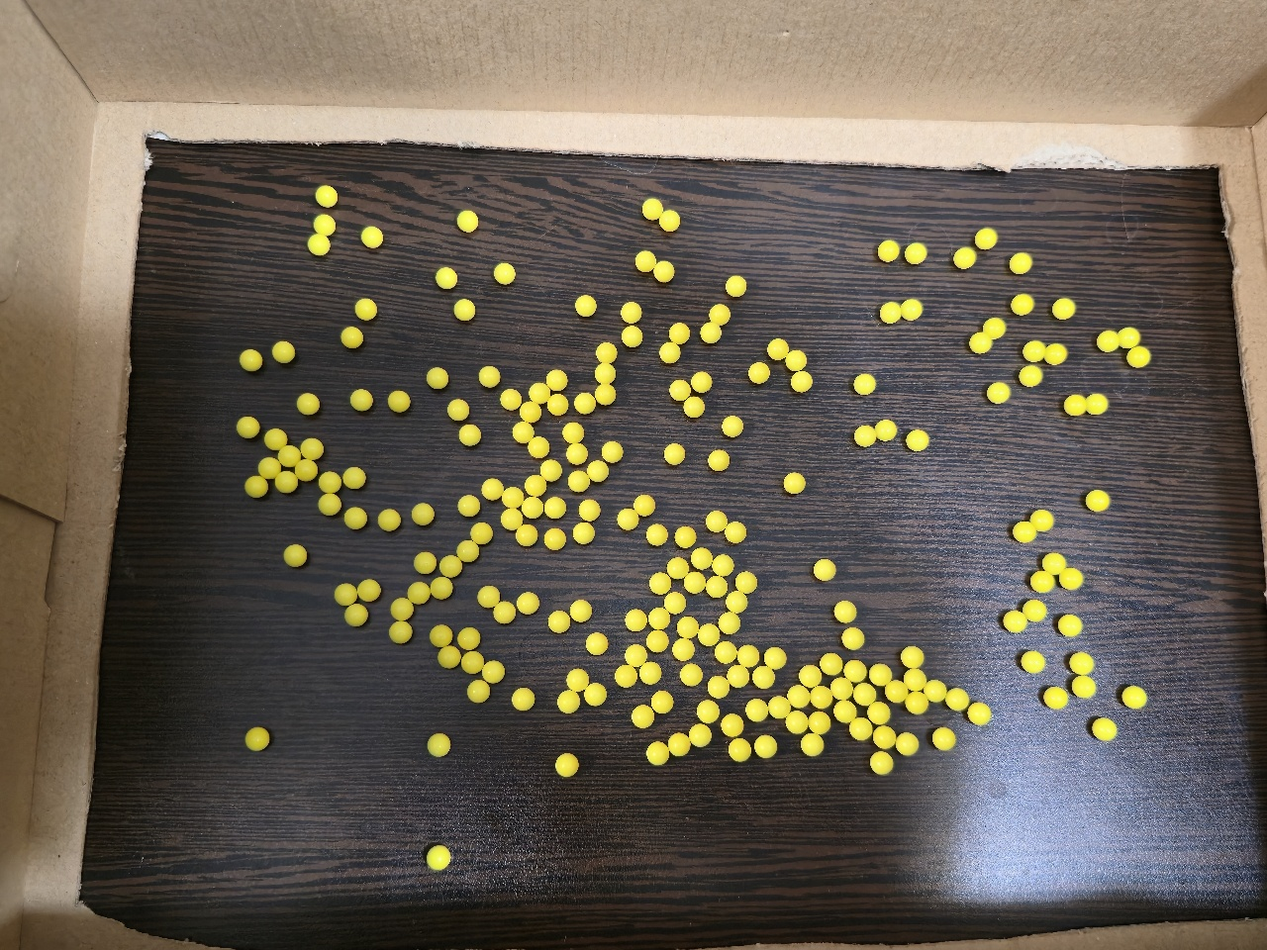yellow_bead: (975, 323, 1001, 348), (1103, 333, 1135, 346), (885, 306, 909, 318), (1098, 723, 1112, 736), (1047, 558, 1062, 570), (806, 738, 819, 751), (1064, 619, 1077, 632), (433, 851, 445, 865), (950, 694, 964, 706), (1127, 692, 1141, 704), (1077, 681, 1091, 693), (1075, 658, 1089, 670), (1026, 656, 1040, 668), (1036, 576, 1050, 588), (901, 738, 914, 750), (854, 723, 867, 735), (1050, 692, 1062, 705), (793, 691, 806, 703), (909, 674, 922, 686), (1027, 606, 1041, 617), (992, 387, 1006, 398), (733, 744, 745, 756), (938, 733, 950, 745), (791, 716, 803, 728), (911, 697, 923, 709), (562, 696, 574, 708), (815, 692, 827, 704), (929, 685, 941, 697), (835, 683, 847, 695), (620, 670, 632, 682), (685, 669, 697, 681), (487, 666, 499, 678), (466, 656, 478, 668), (703, 629, 715, 641), (396, 604, 408, 616), (313, 238, 325, 250), (561, 759, 572, 772), (858, 689, 871, 700), (874, 670, 887, 681), (732, 670, 743, 683), (906, 652, 919, 663), (1066, 574, 1079, 585), (1035, 515, 1048, 526), (859, 430, 872, 441), (1091, 399, 1104, 410), (1024, 370, 1037, 381), (1057, 303, 1070, 314), (319, 220, 330, 233), (1009, 617, 1023, 627), (876, 758, 888, 769), (652, 748, 663, 760), (760, 741, 771, 753), (673, 739, 684, 751), (433, 739, 444, 751), (879, 731, 890, 743), (694, 730, 706, 741), (814, 717, 825, 729), (974, 709, 986, 720), (873, 708, 885, 719), (839, 706, 851, 717), (751, 705, 763, 716), (656, 697, 667, 709), (518, 694, 529, 706), (590, 689, 601, 701), (891, 687, 903, 698), (473, 686, 484, 698), (758, 672, 769, 684), (644, 667, 655, 679), (849, 666, 861, 677), (443, 652, 455, 663), (651, 635, 662, 647), (847, 633, 859, 644), (463, 632, 474, 644), (839, 607, 851, 618), (731, 596, 742, 608), (711, 581, 722, 593), (689, 577, 701, 588), (444, 561, 456, 572), (462, 545, 473, 557), (1019, 526, 1031, 537), (527, 502, 538, 514), (280, 476, 292, 487), (912, 435, 924, 446), (959, 252, 971, 263), (637, 711, 648, 722), (713, 682, 724, 693), (572, 675, 583, 686), (805, 671, 816, 682), (826, 659, 837, 670), (769, 653, 780, 664), (742, 651, 753, 662), (720, 647, 731, 658), (395, 626, 406, 637), (682, 622, 693, 633), (575, 606, 586, 617), (669, 598, 680, 609), (483, 591, 494, 602), (363, 585, 374, 596), (654, 578, 665, 589), (740, 577, 751, 588), (672, 563, 683, 574), (718, 560, 729, 571), (696, 553, 707, 564), (289, 550, 300, 561), (521, 530, 532, 541), (578, 527, 589, 538), (417, 509, 428, 520), (549, 503, 560, 514), (324, 499, 335, 510), (573, 476, 584, 487), (348, 473, 359, 484), (545, 465, 556, 476), (284, 450, 295, 461), (607, 446, 618, 457), (1028, 345, 1039, 356), (360, 304, 371, 315), (1015, 257, 1026, 268), (647, 203, 658, 214), (321, 191, 332, 202), (727, 719, 737, 731), (702, 707, 714, 717), (773, 703, 785, 713), (678, 643, 688, 655), (341, 589, 351, 601), (1091, 495, 1103, 505), (324, 477, 336, 487), (306, 443, 318, 453), (600, 367, 610, 379), (911, 248, 923, 258), (980, 233, 992, 243), (251, 733, 261, 744), (631, 650, 641, 661), (724, 618, 735, 628), (553, 617, 564, 627), (653, 614, 664, 624), (350, 610, 361, 620), (499, 608, 510, 618), (523, 598, 533, 609), (413, 588, 424, 598), (436, 583, 447, 593), (651, 529, 661, 540), (383, 515, 394, 525), (506, 514, 517, 524), (349, 513, 360, 523), (584, 505, 594, 516), (463, 501, 474, 511), (507, 493, 518, 503), (487, 484, 498, 494), (789, 478, 800, 488), (593, 466, 603, 477), (270, 434, 281, 444), (464, 430, 475, 440), (518, 427, 529, 437), (525, 407, 536, 417), (453, 405, 463, 416), (303, 399, 313, 410), (580, 398, 590, 409), (394, 396, 404, 407), (356, 395, 366, 406), (859, 379, 870, 389), (432, 373, 442, 384), (791, 355, 801, 366), (245, 355, 256, 365), (665, 347, 675, 358), (278, 347, 289, 357), (459, 305, 469, 316), (441, 273, 451, 284), (500, 268, 510, 279), (640, 256, 651, 266), (462, 216, 472, 227), (879, 426, 891, 435), (1069, 402, 1081, 411), (591, 639, 601, 649), (819, 565, 829, 575), (420, 558, 430, 568), (549, 534, 559, 544), (680, 532, 690, 542), (476, 528, 486, 538), (669, 449, 679, 459), (568, 428, 578, 438), (243, 422, 253, 432), (689, 402, 699, 412), (675, 386, 685, 396), (796, 376, 806, 386), (551, 375, 561, 385), (484, 372, 494, 382), (754, 368, 764, 378), (773, 344, 783, 354), (706, 327, 716, 337), (715, 310, 725, 320), (581, 301, 591, 311), (884, 245, 894, 255), (664, 216, 674, 226), (711, 517, 722, 526), (531, 480, 540, 491), (572, 448, 581, 459), (601, 389, 610, 400), (535, 388, 544, 399), (602, 347, 611, 358), (346, 333, 357, 342), (1017, 299, 1026, 310), (436, 631, 445, 641), (631, 616, 640, 626), (731, 527, 740, 537), (623, 515, 633, 524), (639, 501, 648, 511), (250, 481, 259, 491), (714, 456, 724, 465), (552, 400, 562, 409), (506, 395, 515, 405), (674, 329, 684, 338), (731, 281, 740, 291), (659, 266, 668, 276), (367, 232, 377, 241), (263, 463, 274, 471), (1050, 351, 1061, 359), (534, 442, 543, 451), (728, 422, 737, 431), (697, 378, 706, 387), (627, 332, 636, 341), (627, 308, 635, 318), (1132, 354, 1145, 360), (300, 465, 310, 471), (911, 304, 915, 305)
